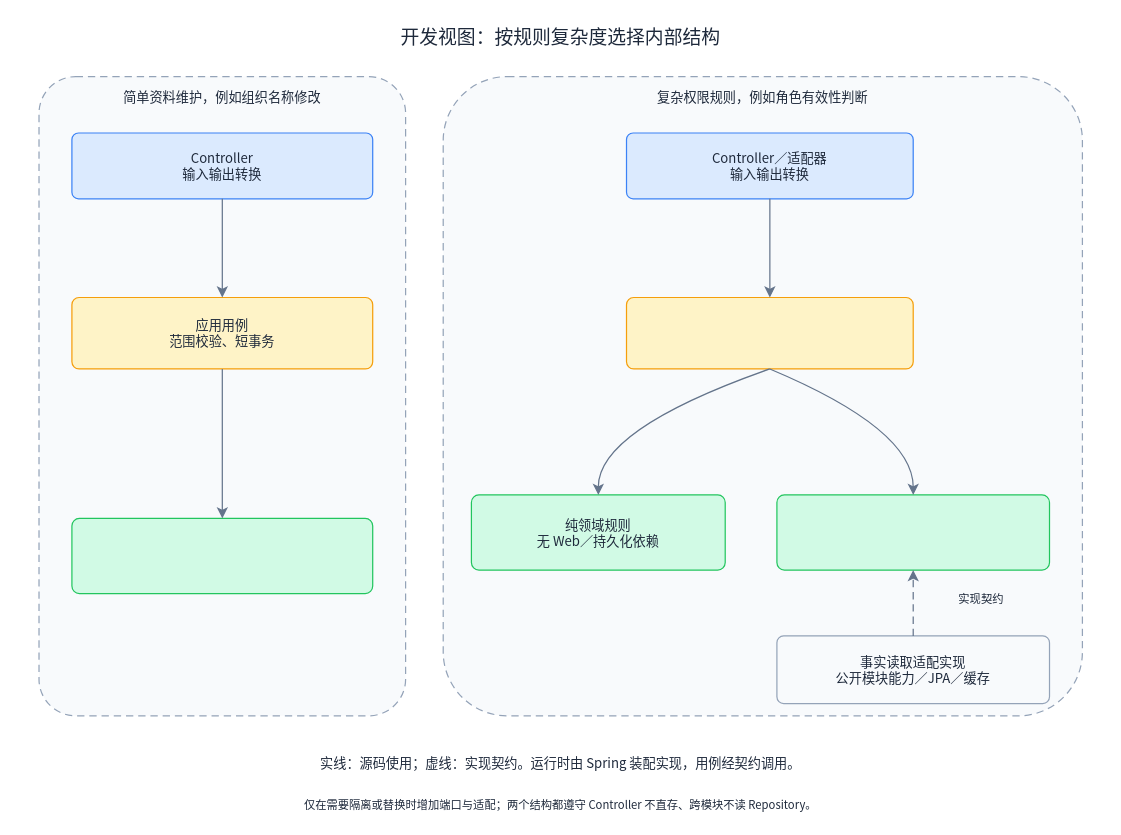
This 1121x835 diagram has some shape labels left out. The shapes that lost their labels are listed below. From the top down, each one's centre as x and y in pixels, then its label:
At [769,332]: "应用用例／事实装配 协调可信事实与判断".
At [913,532]: "需要隔离的查询契约 提供业务事实".
At [222,555]: "本模块 JPA Repository 查询与原子保存".
